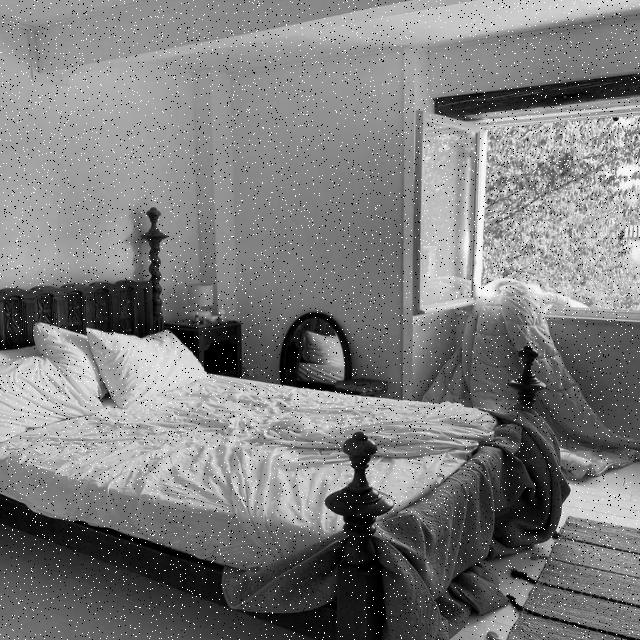bed: (0, 320, 546, 578)
